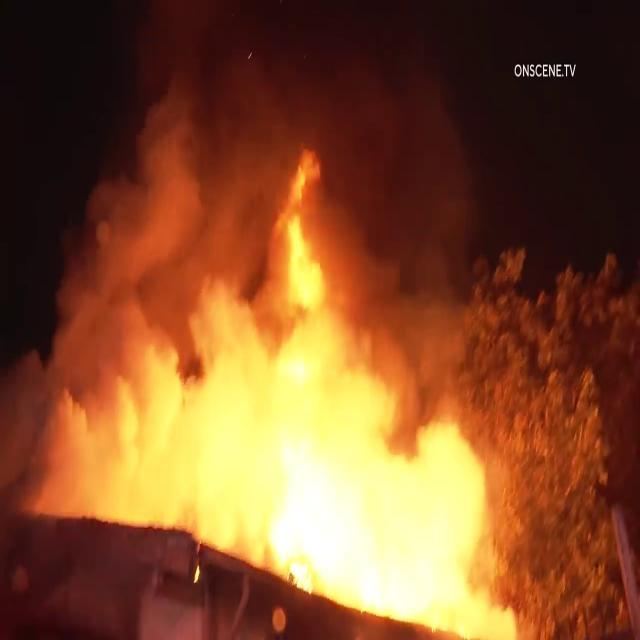Fire: (216, 410, 462, 640)
Smoke: (218, 31, 477, 358), (26, 288, 145, 528)
